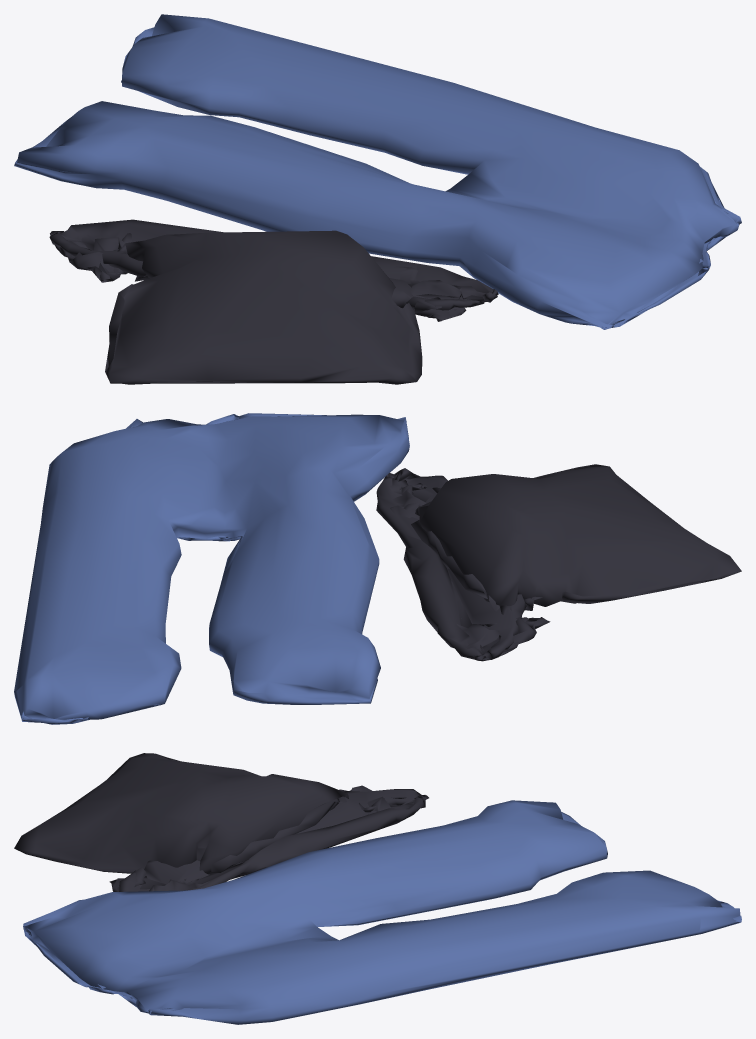
Rendered from Clothes.glb.
3 views of the same model, one above another, from view 1: azimuth 30°, elevation 25°; view 2: azimuth 150°, elevation 25°; view 3: azimuth 270°, elevation 25° (orthographic). The views are drawn at different scales.
Visible parts, largest first — view 1: Pant, Shirt; view 2: Pant, Shirt; view 3: Pant, Shirt.
Boxes of the visible parts, x1,y1,x2,y2 form: Pant: (14,14,741,329); Shirt: (49,219,498,384); Pant: (14,413,409,724); Shirt: (376,464,741,661); Pant: (23,800,741,1024); Shirt: (14,753,428,891).
Size of the model in its own units: 0.7152 by 0.0653 by 0.8077.
